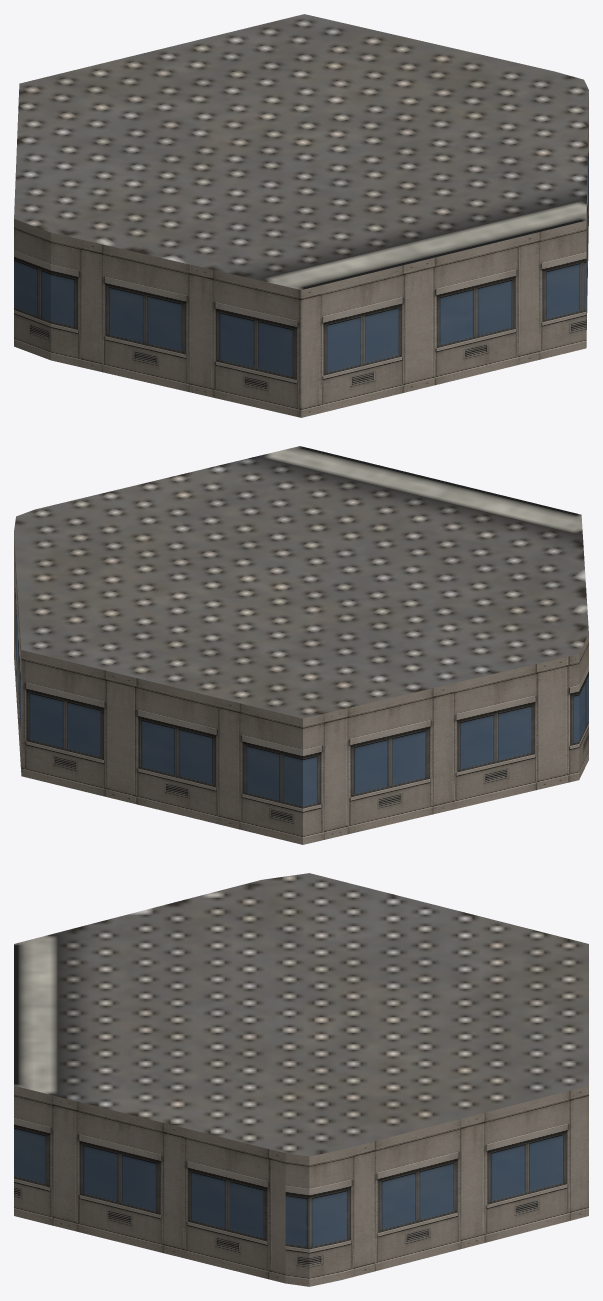
File: building_light_a_55.glb
3 renders of one model, top to bottom at view 1: azimuth 30°, elevation 25°; view 2: azimuth 150°, elevation 25°; view 3: azimuth 270°, elevation 25°, orthographic. The views are drawn at different scales.
Parts seen in each view (by area): view 1: buildings/saxarba/building_light/building_light_a_55; view 2: buildings/saxarba/building_light/building_light_a_55; view 3: buildings/saxarba/building_light/building_light_a_55.
Boxes of the visible parts, left/top/right/bottom form: buildings/saxarba/building_light/building_light_a_55: left=14, top=14, right=588, bottom=417; buildings/saxarba/building_light/building_light_a_55: left=14, top=446, right=588, bottom=844; buildings/saxarba/building_light/building_light_a_55: left=14, top=873, right=588, bottom=1286.
Bounding box in the file's own units: 84 × 18 × 72.
